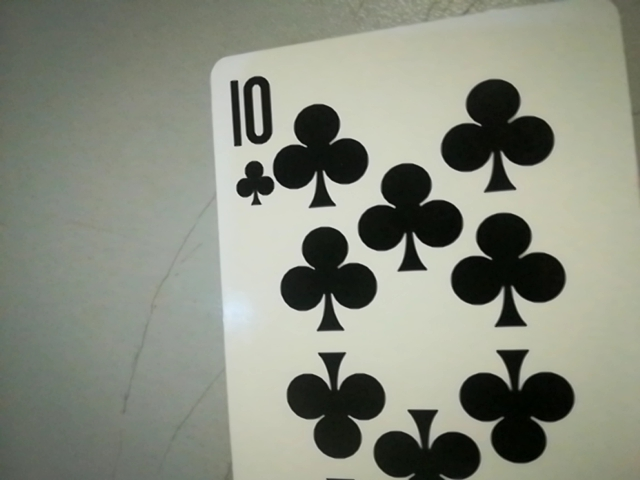mh 10: (216, 62, 281, 213)
